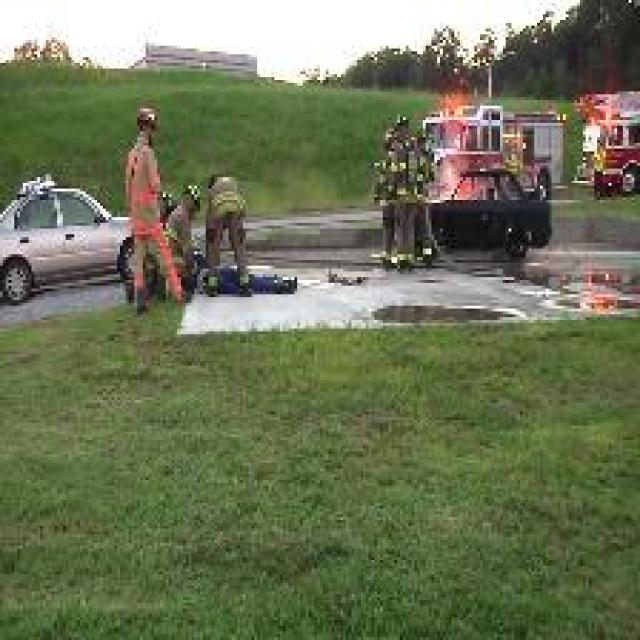other: (570, 83, 634, 123), (433, 78, 468, 138)
